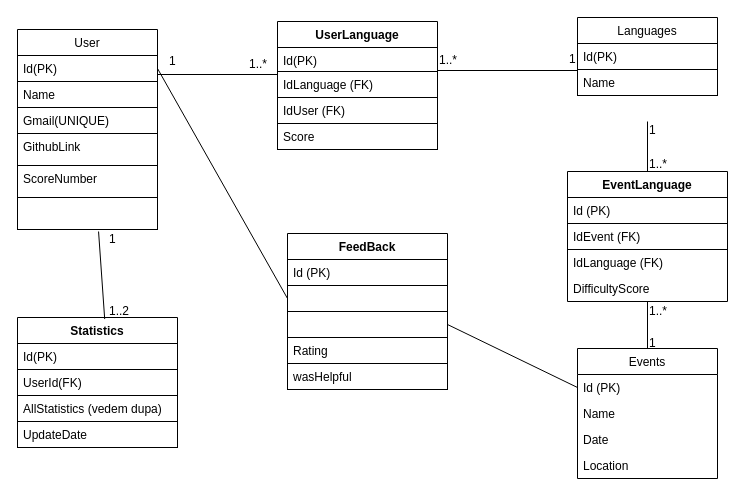
The diagram is 745 pixels wide and 499 high, and some of its shapes have lost their labels. The shapes that lost their labels are listed below. From the top down, each one's centre as x and y in pixels, then its label:
At point 87,213: "UpdateInterval".
At point 367,298: "UserId (FK)".
At point 367,324: "EventsId (FK)".
